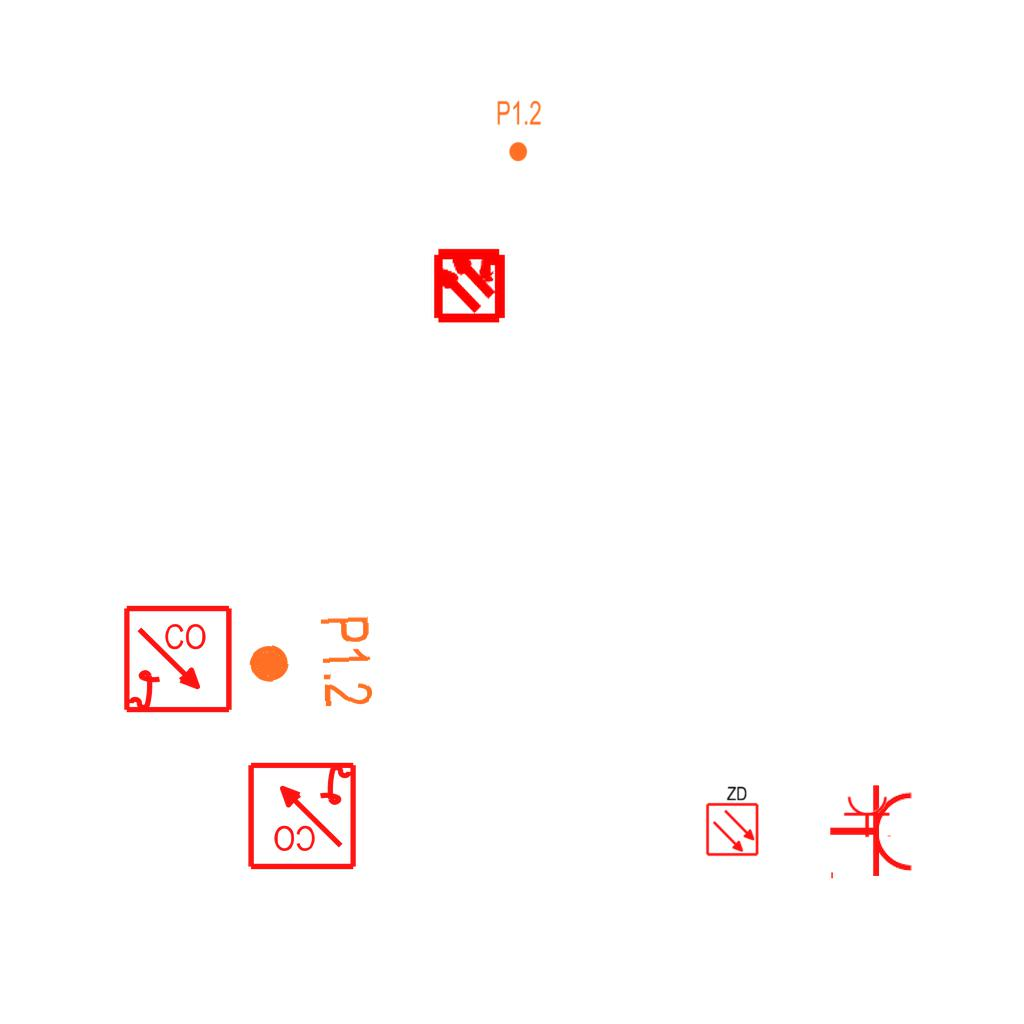Downlight_LED_Einbauleuchten_Flur: (244, 613, 377, 713), (496, 99, 542, 163)
OT_Multisensormelder_(Kombination_RMO_WMD): (413, 227, 526, 340)
ROA_Rauchmelder_optisch_mit_Signalgeber_(Sockelsirene): (122, 604, 235, 717), (245, 758, 358, 871)
Schukosteckdose_einfach: (828, 783, 915, 883), (843, 795, 893, 838)
ZD_Melder_in_Zwischendecke_mit_Revisionsoeffnung_mind_40_x_40_cm: (703, 783, 760, 857)
